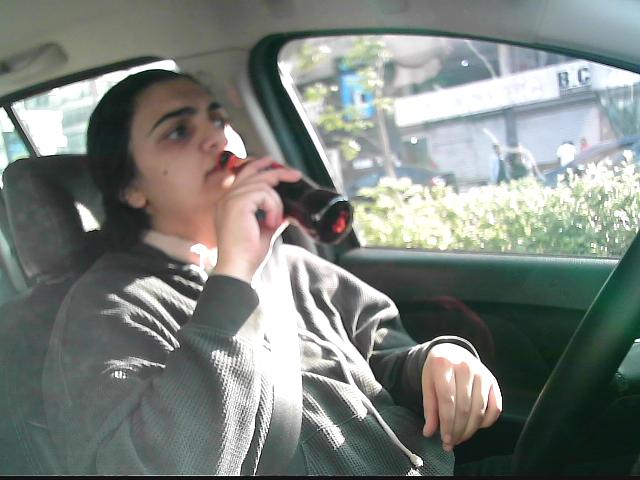Drinking: (119, 78, 354, 246)
